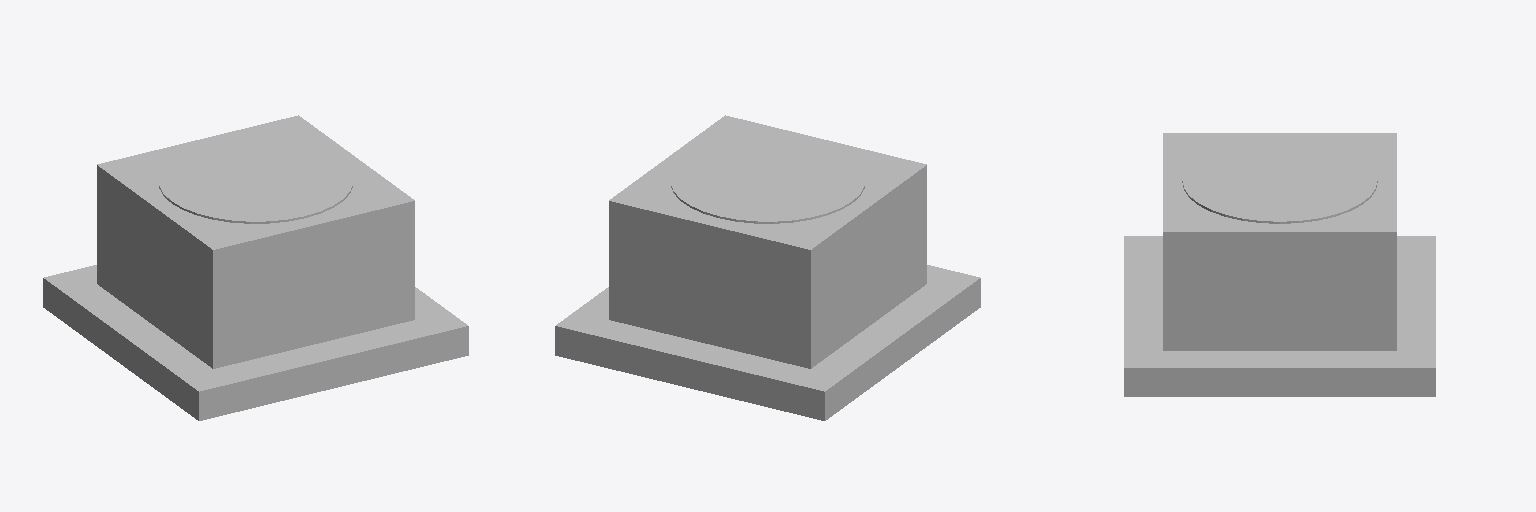
The model's file is квадратная кнопка с кругом.obj.
3 views of the same model, side by side, from view 1: azimuth 30°, elevation 25°; view 2: azimuth 150°, elevation 25°; view 3: azimuth 270°, elevation 25° (orthographic).
Parts seen in each view (by area): view 1: Cube; view 2: Cube; view 3: Cube.
Boxes of the visible parts, x1=… form: Cube: x1=43, y1=115, x2=468, y2=420; Cube: x1=555, y1=115, x2=980, y2=420; Cube: x1=1124, y1=133, x2=1435, y2=396.
Size of the model in its own units: 2 by 1.07 by 2.